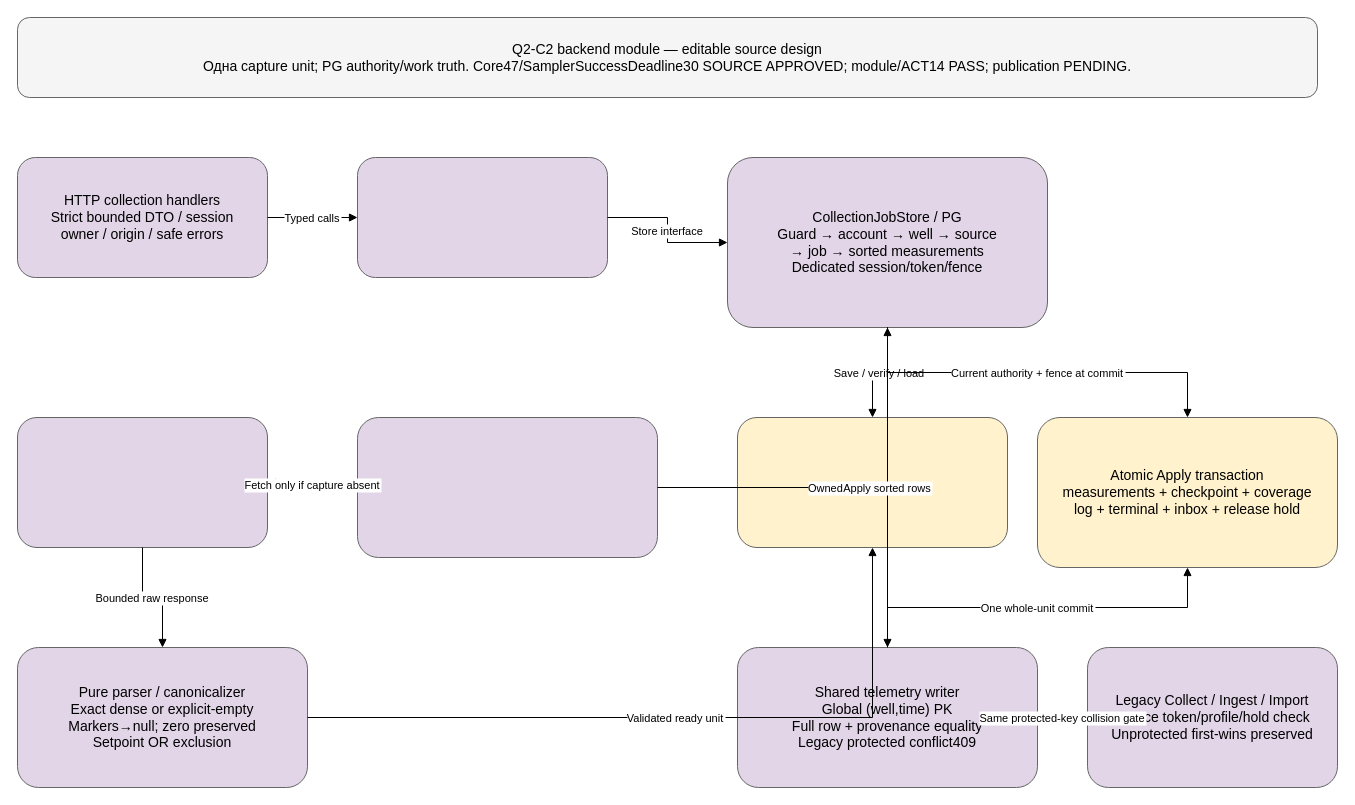
Some shapes in this 1355 by 805 pixel diagram are drawn without their labels. The shapes that lost their labels are listed below. From the top down, each one's centre as x and y in pixels, then its label:
[482,217]: CollectionJobs service Submit / Status / Cancel Replay/current rights
[142,482]: HTTP source adapter Fixed origin / bounded read No redirect/proxy/credentials
[507,487]: Worker / dispatcher / reconciler Retry3 / generation8 Persisted inbox before ACK
[872,482]: Immutable capture in PG Raw + canonical + hashes No reread after commit
